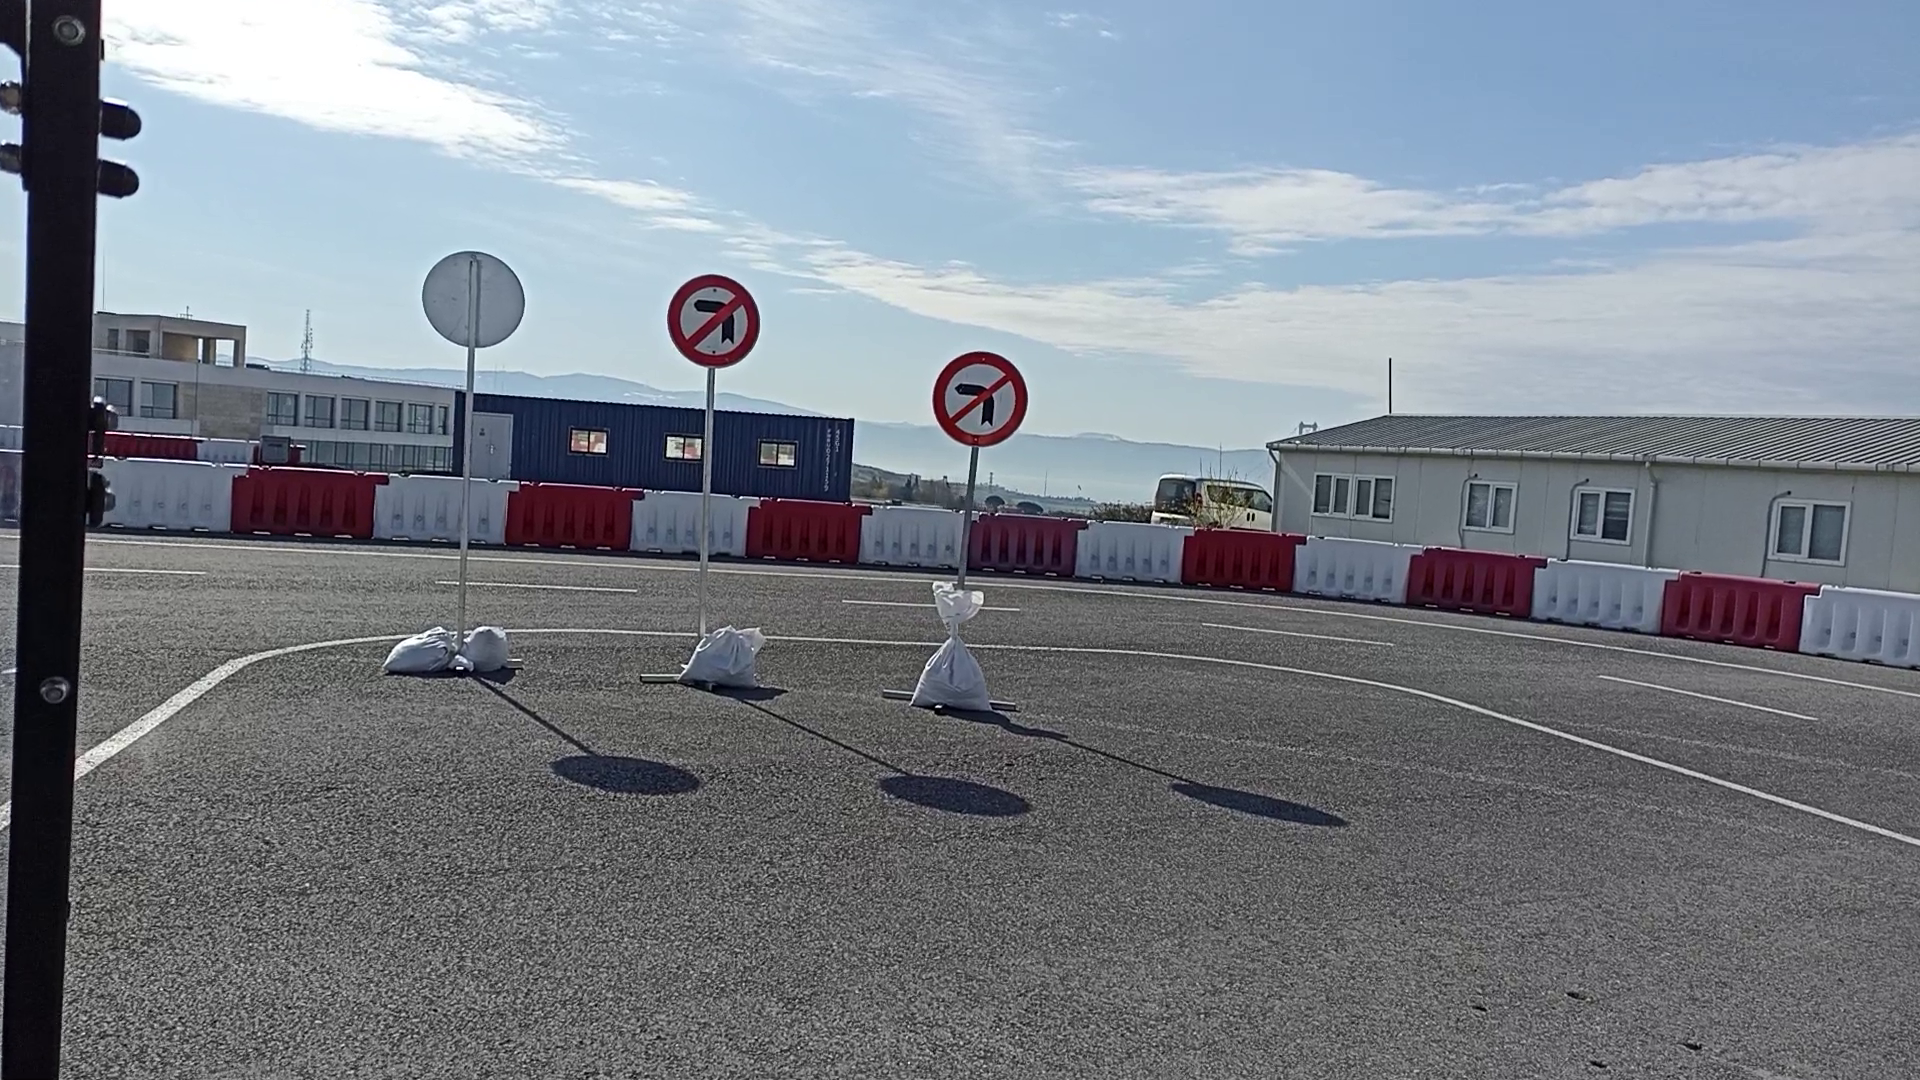noleft: (931, 349, 1029, 447), (666, 272, 762, 368)
